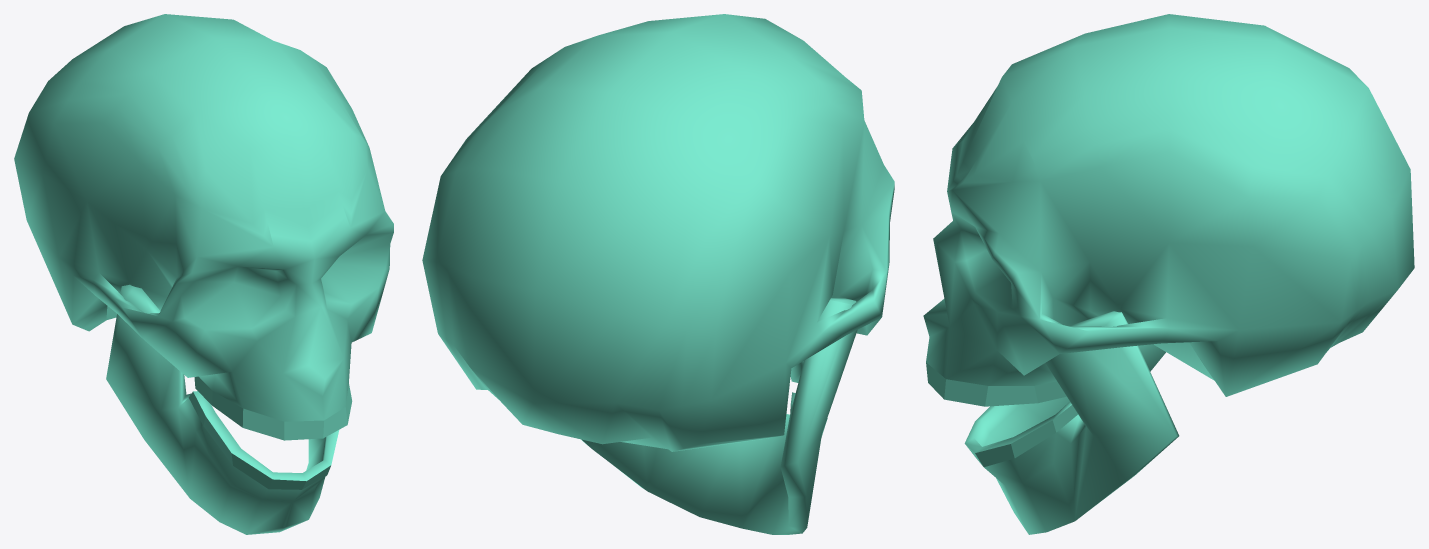
File: Caveira Boca Aberta.fbx
The picture shows the model from 3 angles, left to right: view 1: azimuth 30°, elevation 25°; view 2: azimuth 150°, elevation 25°; view 3: azimuth 270°, elevation 25°; orthographic projection. The views are drawn at different scales.
Parts seen in each view (by area): view 1: Caveira Boca Fechada; view 2: Caveira Boca Fechada; view 3: Caveira Boca Fechada.
Part boxes in pixels (left/top/right/bottom): Caveira Boca Fechada: left=14, top=14, right=393, bottom=534; Caveira Boca Fechada: left=422, top=14, right=894, bottom=534; Caveira Boca Fechada: left=923, top=14, right=1414, bottom=534.
Bounding box in the file's own units: 147 × 234 × 211.
